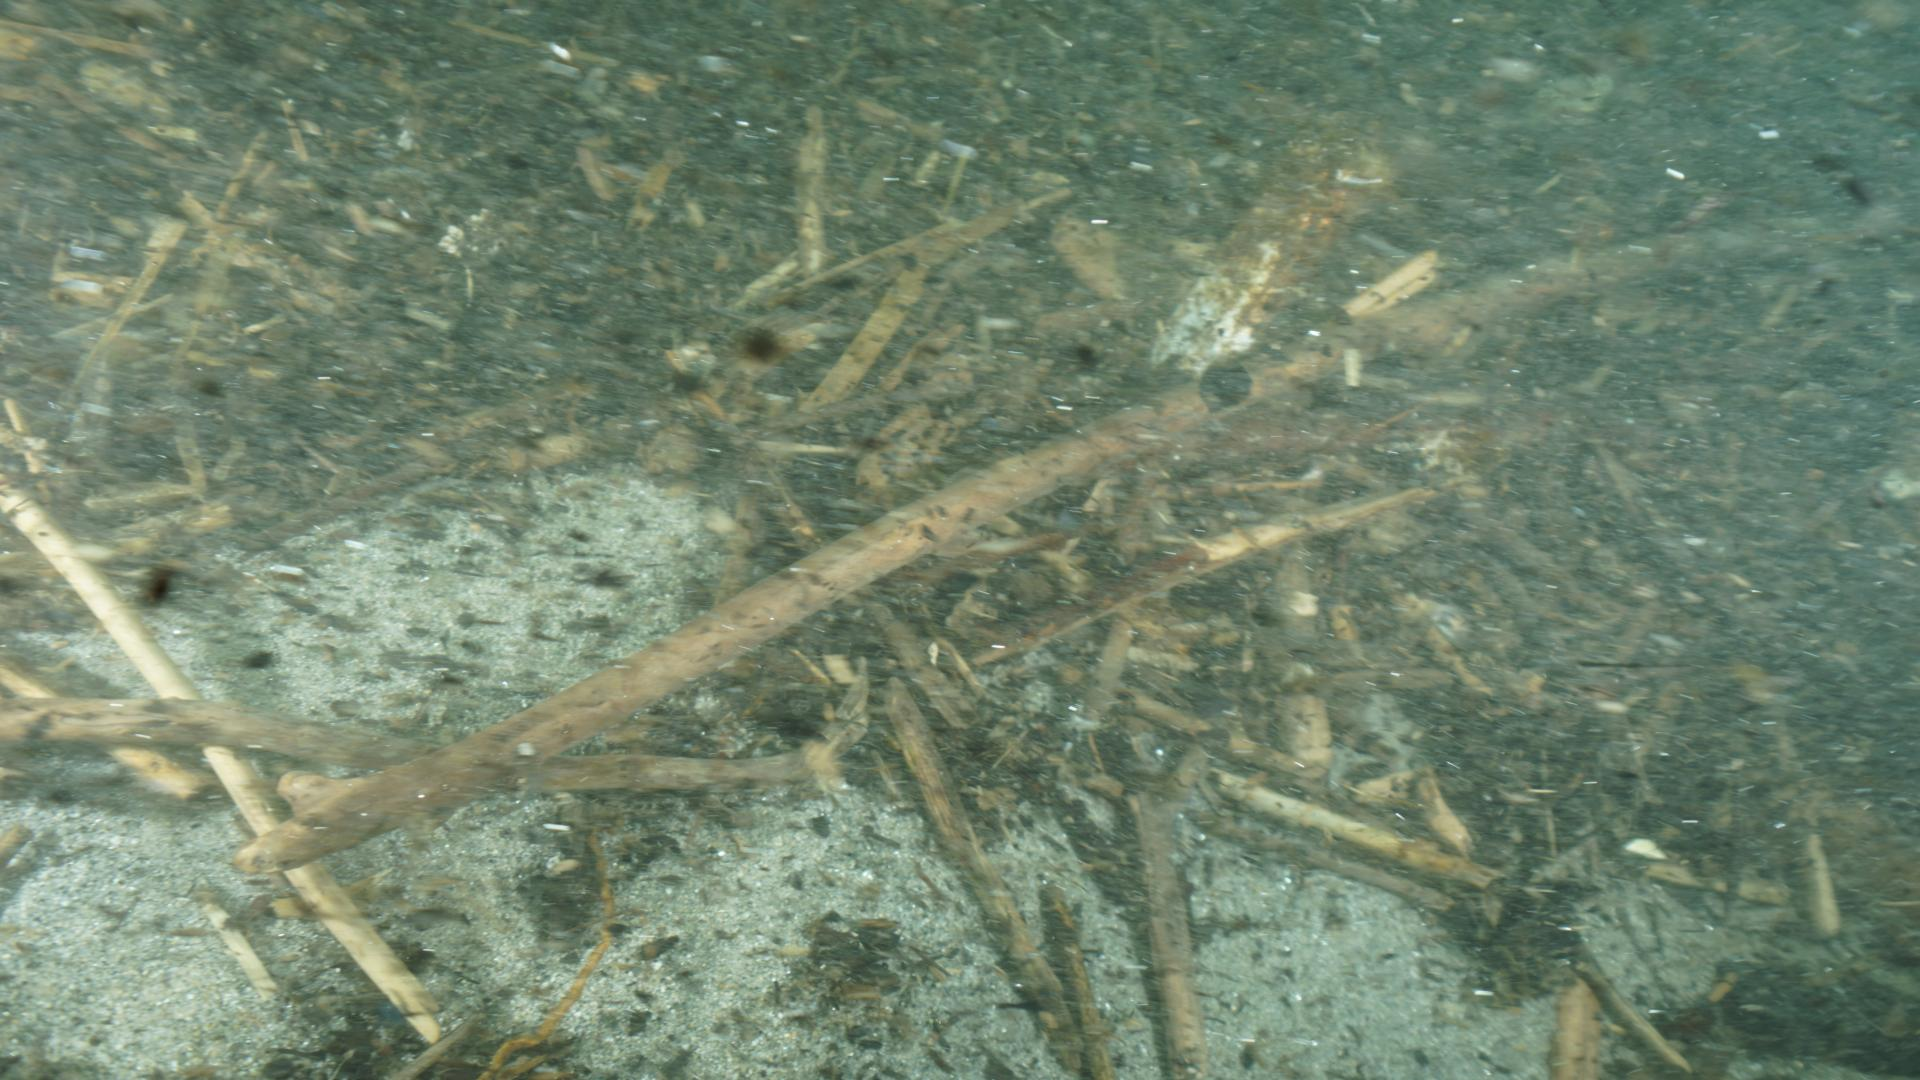wood: (229, 189, 1920, 873)
